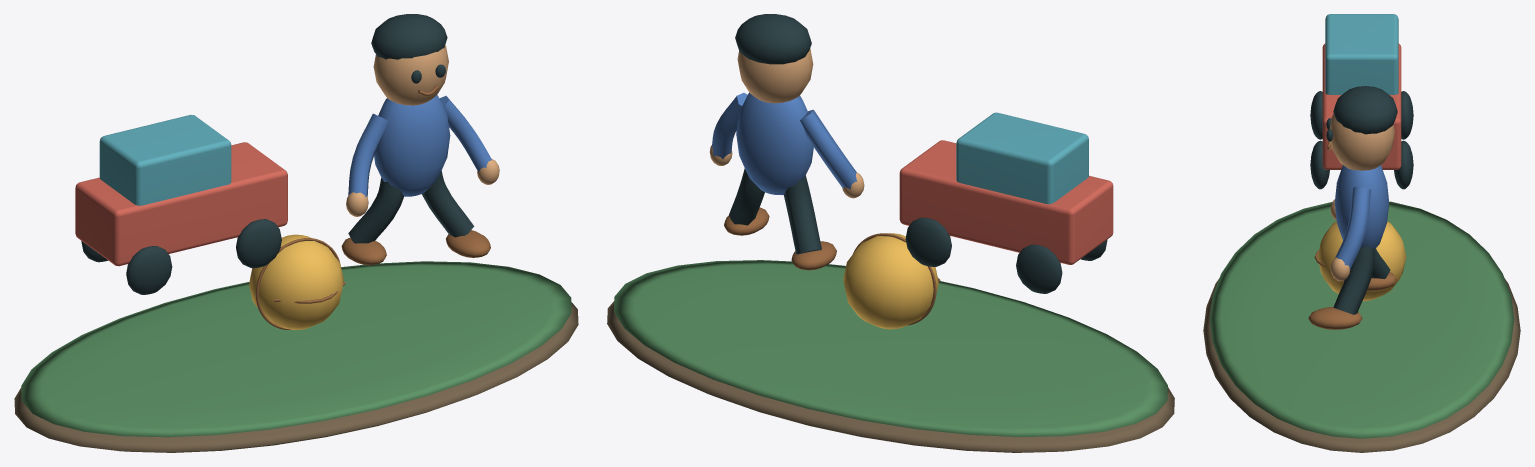
Rendered from complete-first-transport-into-motion.glb.
3 renders of one model, left to right at view 1: azimuth 30°, elevation 25°; view 2: azimuth 150°, elevation 25°; view 3: azimuth 270°, elevation 25°, orthographic. The views are drawn at different scales.
Visible parts, largest first — view 1: complete-first-transport-into-motion_surface_01, complete-first-transport-into-motion_surface_02, complete-first-transport-into-motion_surface_04, complete-first-transport-into-motion_surface_00, complete-first-transport-into-motion_surface_03, complete-first-transport-into-motion_surface_07, complete-first-transport-into-motion_surface_08, complete-first-transport-into-motion_surface_05, complete-first-transport-into-motion_surface_06; view 2: complete-first-transport-into-motion_surface_01, complete-first-transport-into-motion_surface_02, complete-first-transport-into-motion_surface_04, complete-first-transport-into-motion_surface_00, complete-first-transport-into-motion_surface_03, complete-first-transport-into-motion_surface_07, complete-first-transport-into-motion_surface_08, complete-first-transport-into-motion_surface_05, complete-first-transport-into-motion_surface_06; view 3: complete-first-transport-into-motion_surface_01, complete-first-transport-into-motion_surface_04, complete-first-transport-into-motion_surface_00, complete-first-transport-into-motion_surface_03, complete-first-transport-into-motion_surface_07, complete-first-transport-into-motion_surface_05, complete-first-transport-into-motion_surface_08, complete-first-transport-into-motion_surface_02, complete-first-transport-into-motion_surface_06.
Part boxes in pixels (x1,y1,x2,y2): complete-first-transport-into-motion_surface_01: (21,261,571,437); complete-first-transport-into-motion_surface_02: (75,142,287,266); complete-first-transport-into-motion_surface_04: (81,14,474,294); complete-first-transport-into-motion_surface_00: (14,302,578,452); complete-first-transport-into-motion_surface_03: (99,115,231,205); complete-first-transport-into-motion_surface_07: (348,95,491,197); complete-first-transport-into-motion_surface_08: (249,234,343,329); complete-first-transport-into-motion_surface_05: (346,45,499,216); complete-first-transport-into-motion_surface_06: (255,85,490,329); complete-first-transport-into-motion_surface_01: (614,260,1167,437); complete-first-transport-into-motion_surface_02: (899,140,1113,264); complete-first-transport-into-motion_surface_04: (729,14,1107,293); complete-first-transport-into-motion_surface_00: (607,301,1174,452); complete-first-transport-into-motion_surface_03: (956,112,1088,204); complete-first-transport-into-motion_surface_07: (712,92,857,194); complete-first-transport-into-motion_surface_08: (843,233,938,329); complete-first-transport-into-motion_surface_05: (709,48,864,198); complete-first-transport-into-motion_surface_06: (724,207,940,325); complete-first-transport-into-motion_surface_01: (1209,201,1514,438); complete-first-transport-into-motion_surface_04: (1310,86,1413,314); complete-first-transport-into-motion_surface_00: (1203,278,1520,452); complete-first-transport-into-motion_surface_03: (1325,14,1398,94); complete-first-transport-into-motion_surface_07: (1334,165,1389,269); complete-first-transport-into-motion_surface_05: (1329,113,1394,281); complete-first-transport-into-motion_surface_08: (1317,221,1406,301); complete-first-transport-into-motion_surface_02: (1322,43,1401,169); complete-first-transport-into-motion_surface_06: (1308,141,1396,329).
Bounding box in the file's own units: 4.56 × 2.67 × 2.5.
